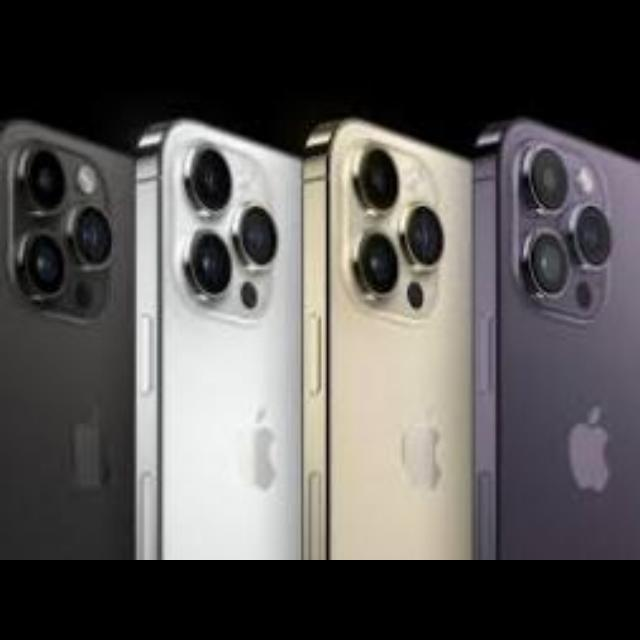phone: (2, 118, 640, 558)
